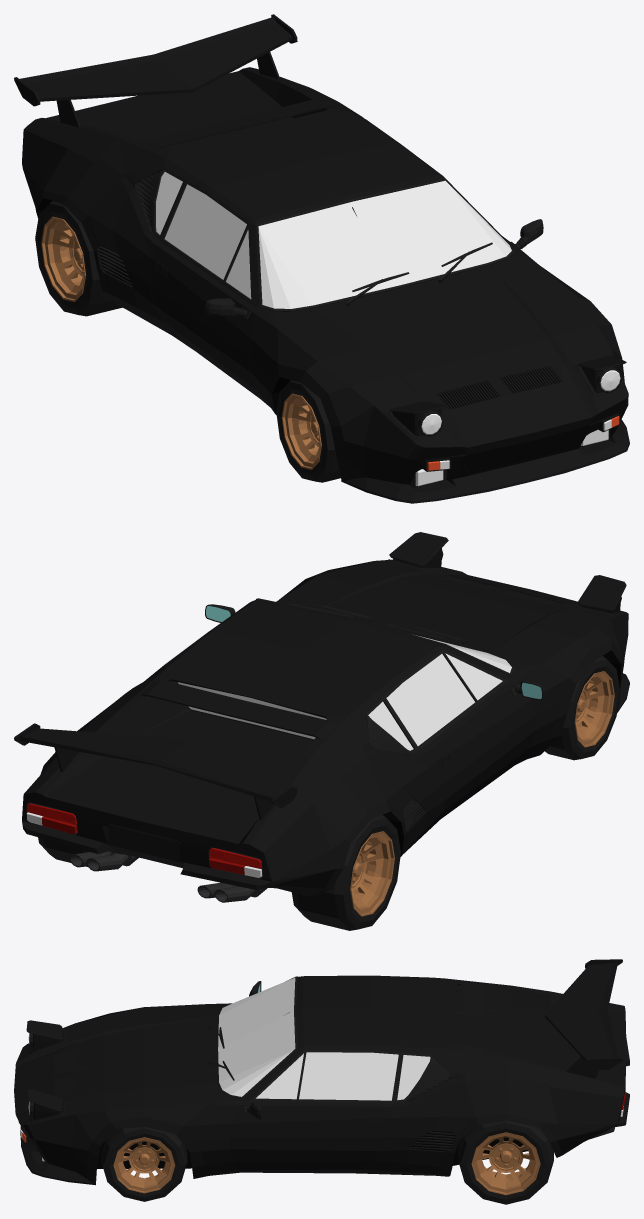
The model's file is LP_Veh_Sports_08.fbx.
3 views of the same model, one above another, from view 1: azimuth 30°, elevation 25°; view 2: azimuth 150°, elevation 25°; view 3: azimuth 270°, elevation 25° (orthographic). The views are drawn at different scales.
Visible parts, largest first — view 1: LP_Veh_Sports_08, LP_Veh_Sports_Glass_001_08, LP_Veh_Sports_Spoiler_08, LP_Veh_Sports_Wheel_004_08, LP_Veh_Sports_Wheel_002_08, LP_Veh_Sports_Headlight_007_08; view 2: LP_Veh_Sports_08, LP_Veh_Sports_Spoiler_08, LP_Veh_Sports_Glass_001_08, LP_Veh_Sports_Wheel_004_08, LP_Veh_Sports_Wheel_002_08, LP_Veh_Sports_Headlight_007_08, LP_Veh_Sports_Wheel_003_08; view 3: LP_Veh_Sports_08, LP_Veh_Sports_Glass_001_08, LP_Veh_Sports_Wheel_003_08, LP_Veh_Sports_Spoiler_08, LP_Veh_Sports_Wheel_001_08, LP_Veh_Sports_Headlight_007_08.
Boxes of the visible parts, bbox=[...] form: LP_Veh_Sports_08: bbox=[22, 67, 629, 503]; LP_Veh_Sports_Glass_001_08: bbox=[156, 172, 511, 308]; LP_Veh_Sports_Spoiler_08: bbox=[14, 14, 297, 127]; LP_Veh_Sports_Wheel_004_08: bbox=[35, 201, 121, 316]; LP_Veh_Sports_Wheel_002_08: bbox=[276, 380, 340, 482]; LP_Veh_Sports_Headlight_007_08: bbox=[389, 355, 626, 436]; LP_Veh_Sports_08: bbox=[22, 560, 629, 902]; LP_Veh_Sports_Spoiler_08: bbox=[14, 723, 297, 820]; LP_Veh_Sports_Glass_001_08: bbox=[178, 635, 511, 750]; LP_Veh_Sports_Wheel_004_08: bbox=[291, 815, 400, 930]; LP_Veh_Sports_Wheel_002_08: bbox=[545, 656, 619, 760]; LP_Veh_Sports_Headlight_007_08: bbox=[389, 532, 626, 613]; LP_Veh_Sports_Wheel_003_08: bbox=[38, 837, 89, 866]; LP_Veh_Sports_08: bbox=[14, 975, 629, 1185]; LP_Veh_Sports_Glass_001_08: bbox=[218, 977, 430, 1100]; LP_Veh_Sports_Wheel_003_08: bbox=[458, 1120, 553, 1204]; LP_Veh_Sports_Spoiler_08: bbox=[545, 959, 622, 1078]; LP_Veh_Sports_Wheel_001_08: bbox=[101, 1126, 187, 1201]; LP_Veh_Sports_Headlight_007_08: bbox=[26, 1020, 63, 1119].
Size of the model in its own units: 2.66 by 1.34 by 5.35.
